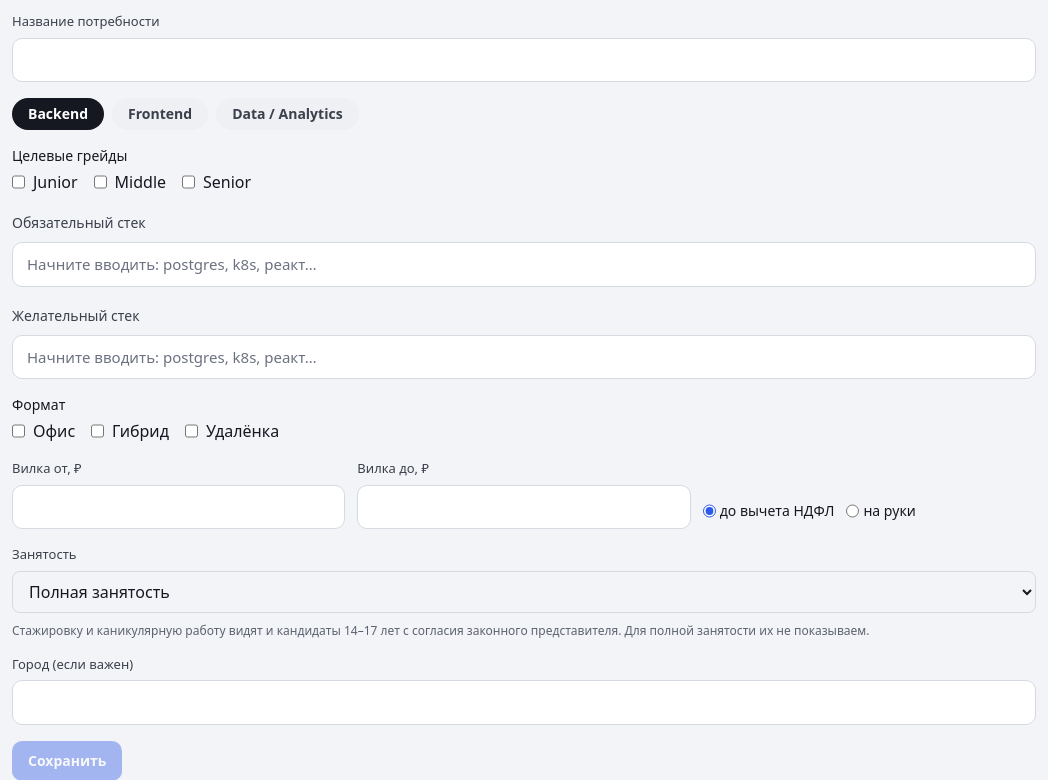
Test: NeedFormView › requires title, grade and salary fork before submit
The image size is (1048, 780).
Expected: the button "Сохранить" is disabled, [12,740,122,779]
Type "Бэкенд" into the field labelled "Название потребности" at point(524, 60), box [12,38,1036,82]
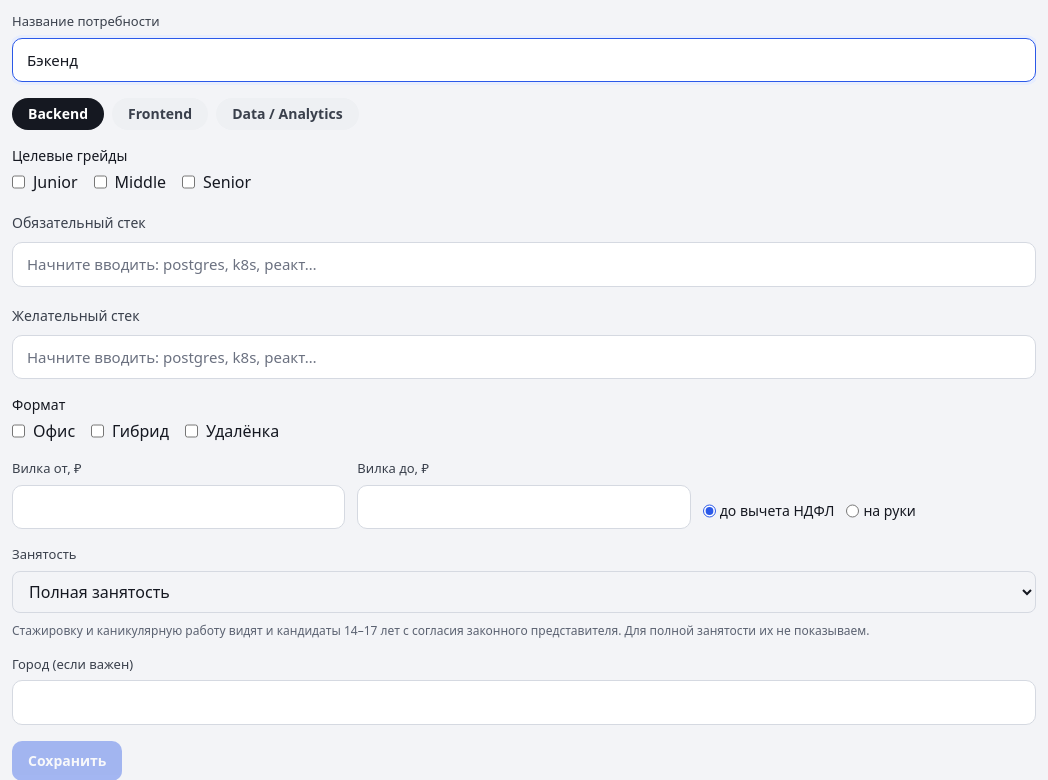
Click the checkbox labelled "Middle" at point(100, 182), box [94,170,107,194]
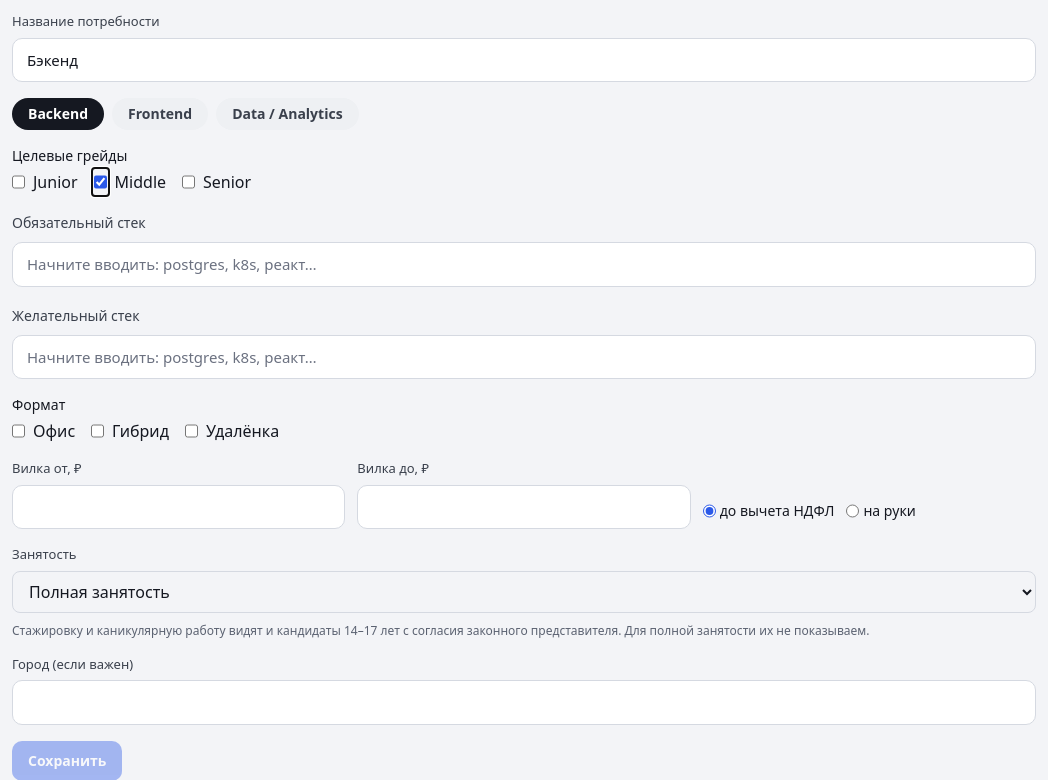
Expected: the button "Сохранить" is disabled, [12,740,122,779]
Type "200000" into the field labelled "Вилка от, ₽" at point(179, 507), box [12,484,345,529]
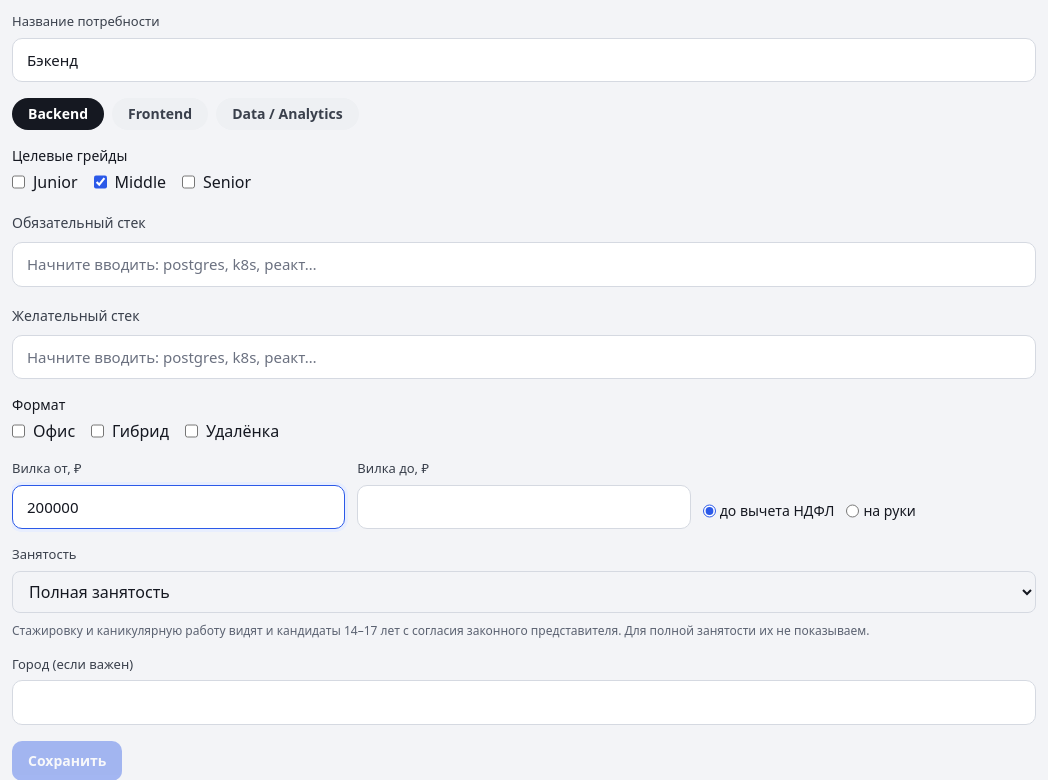
Type "300000" into the field labelled "Вилка до, ₽" at point(524, 507), box [357,484,691,529]
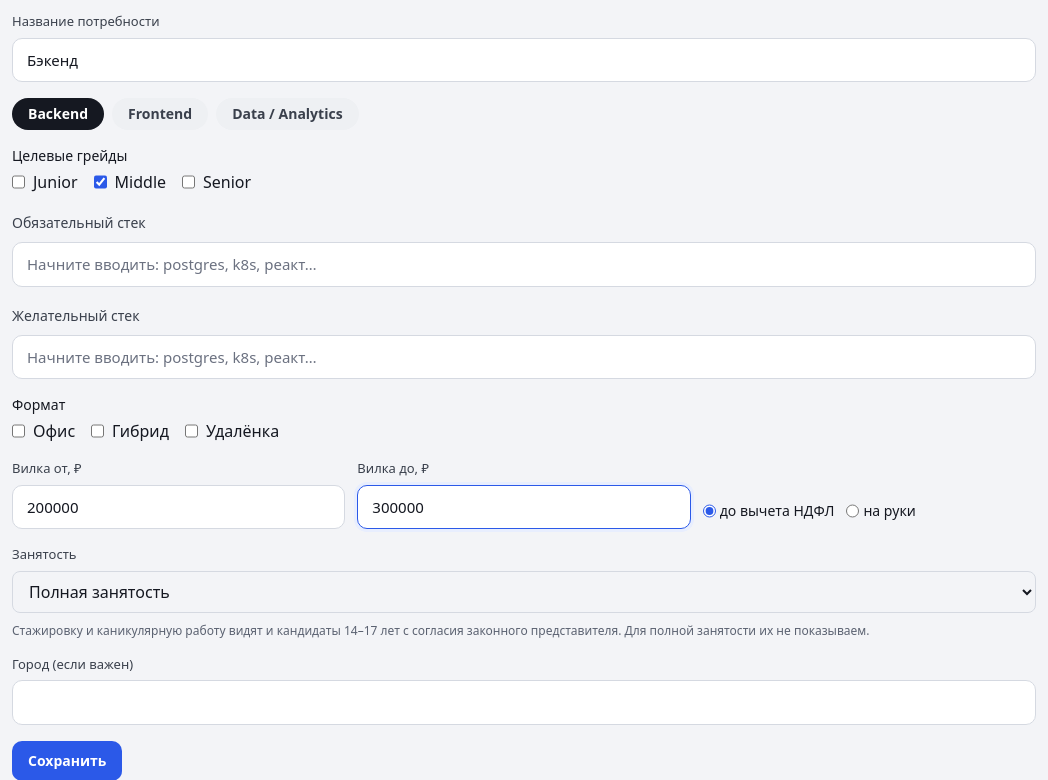
Result: the button "Сохранить" is enabled at [12,740,122,779]
